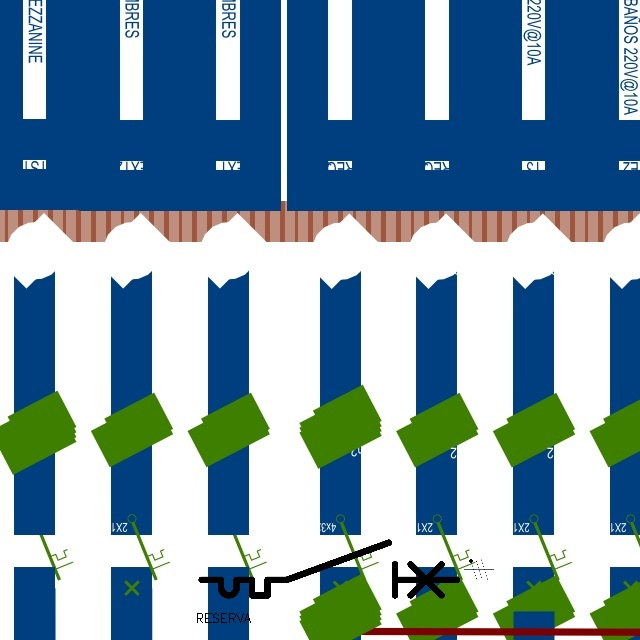interruptor_termomagnetico: (195, 536, 464, 602)
